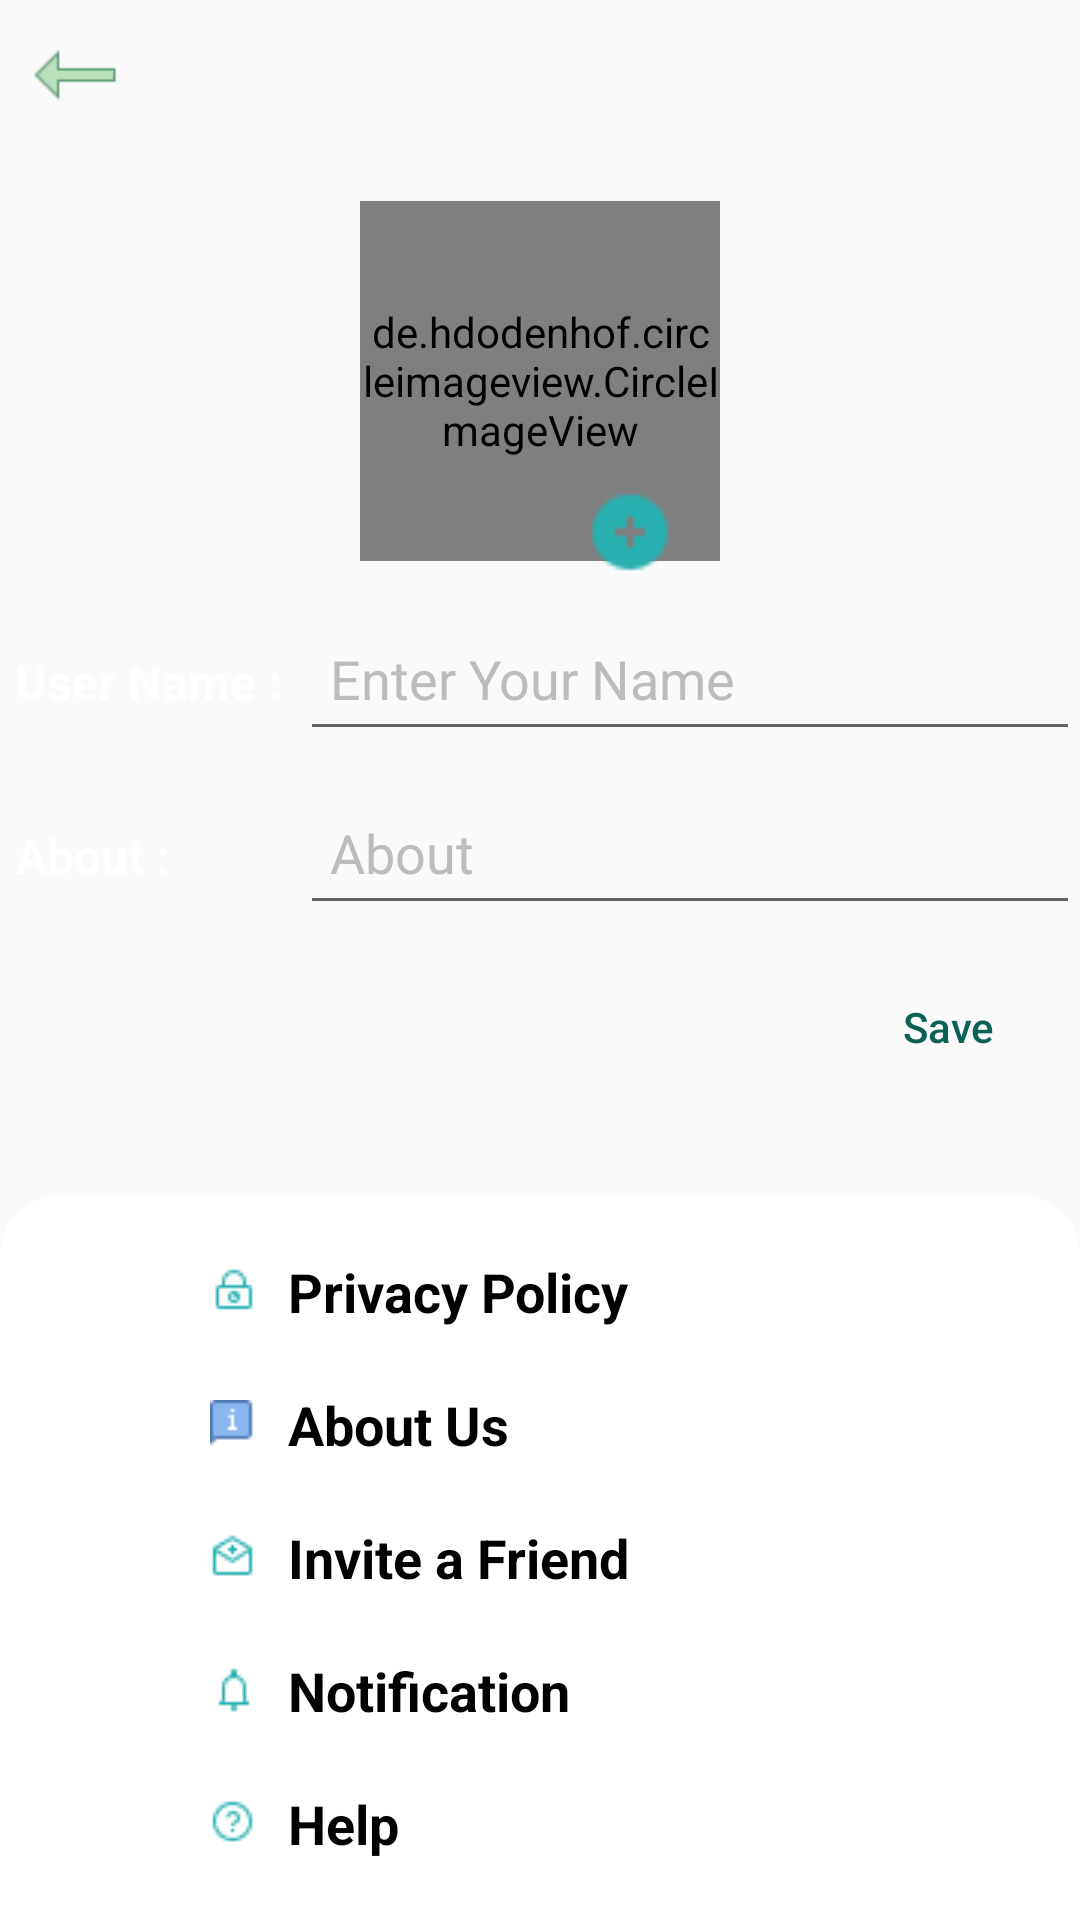

Named icons in this screenshot (1080 x 1920) and their centers, (x=x, y=y):
left arrow: (x=75, y=75)
plus: (x=630, y=535)
